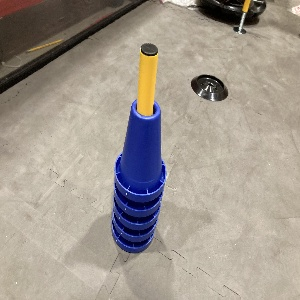Blue_5: (104, 90, 169, 256)
